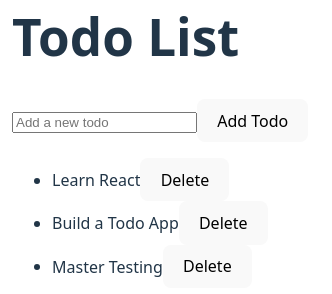
Test: TodoList Component › deletes a todo
The image size is (332, 294).
Expected: the list item "Learn React" is shown, 52,169 -> 140,191
Click the button "Delete" next to "Learn React".
click(185, 180)  # box 140,158 -> 230,202
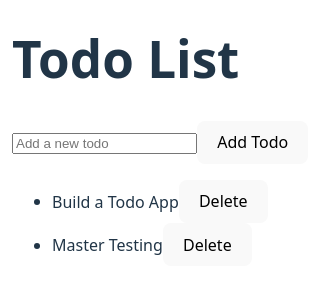
Now the list item "Learn React" is gone
